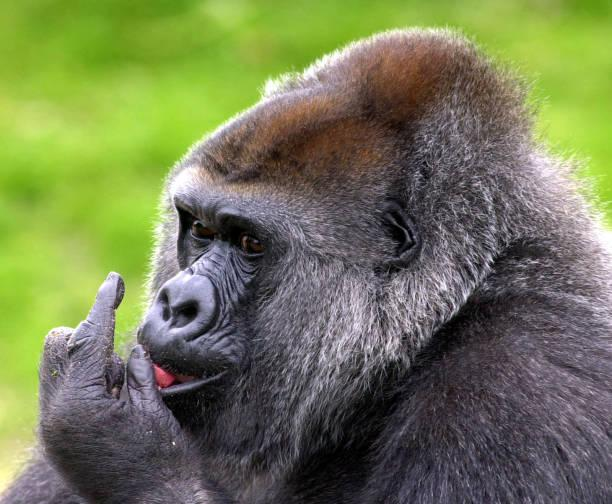gorille_Autres: (3, 0, 612, 504)
